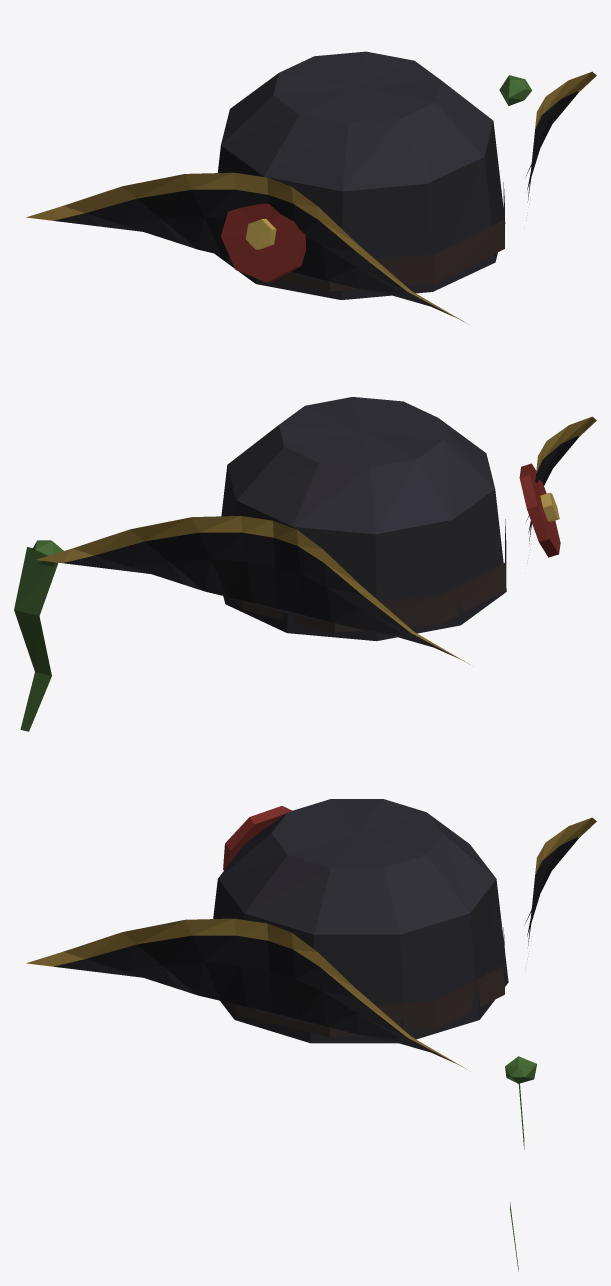
File: captain-hat.glb
The picture shows the model from 3 angles, top to bottom: view 1: azimuth 30°, elevation 25°; view 2: azimuth 150°, elevation 25°; view 3: azimuth 270°, elevation 25°; orthographic projection.
Visible parts, largest first — view 1: captain-hat; view 2: captain-hat; view 3: captain-hat.
Part boxes in pixels (x1,y1,x2,y2): captain-hat: [26, 51, 596, 324]; captain-hat: [14, 397, 596, 731]; captain-hat: [26, 799, 596, 1271].
Bounding box in the file's own units: 0.4427 × 0.2383 × 0.408.
